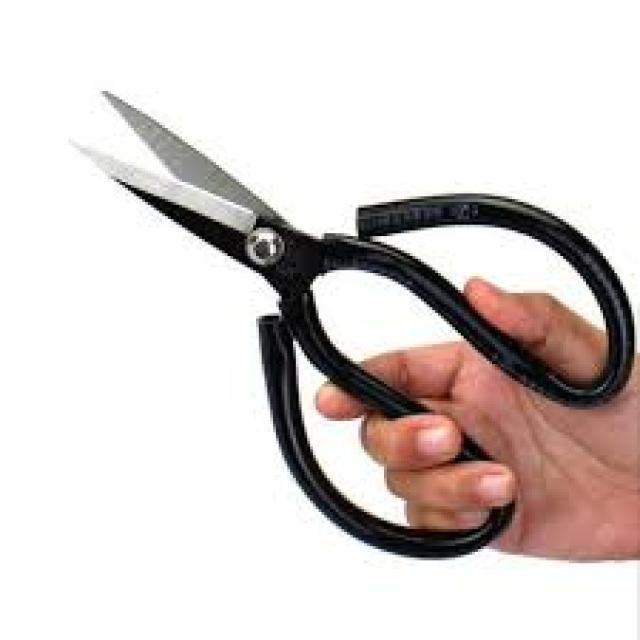Scissors: (55, 68, 635, 572)
